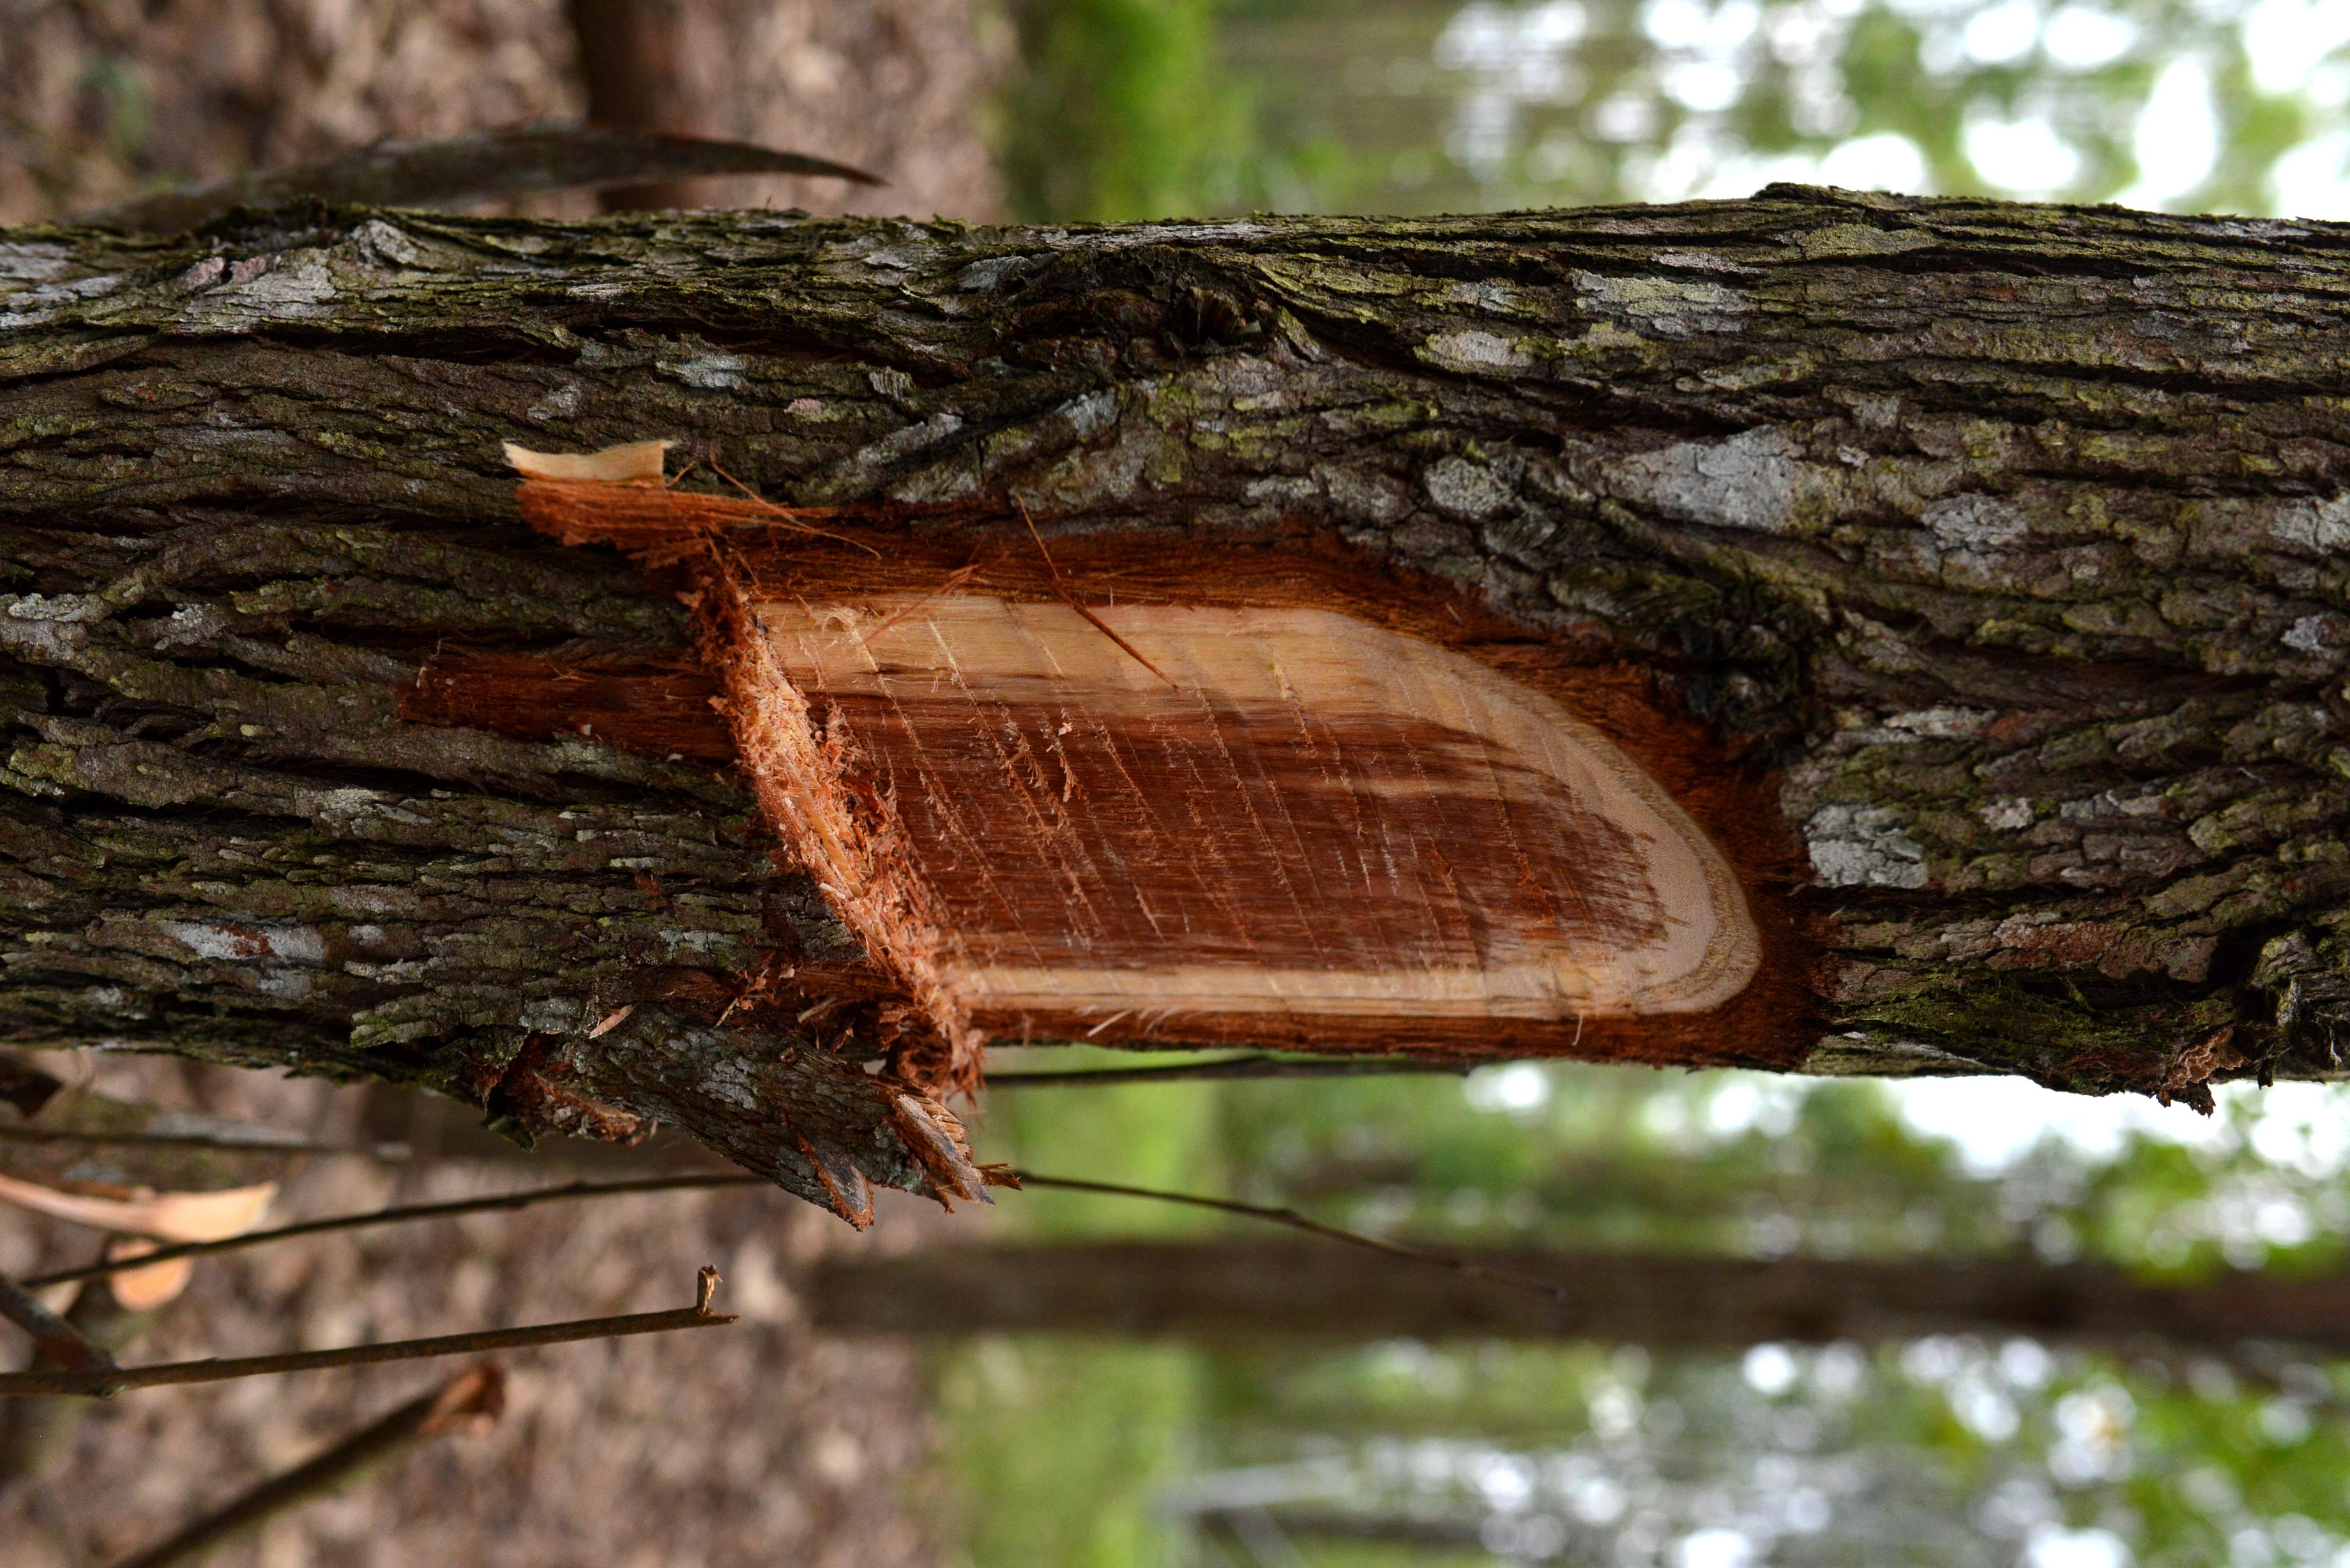Ceratocystis - Inner: (700, 521, 1818, 1144)
